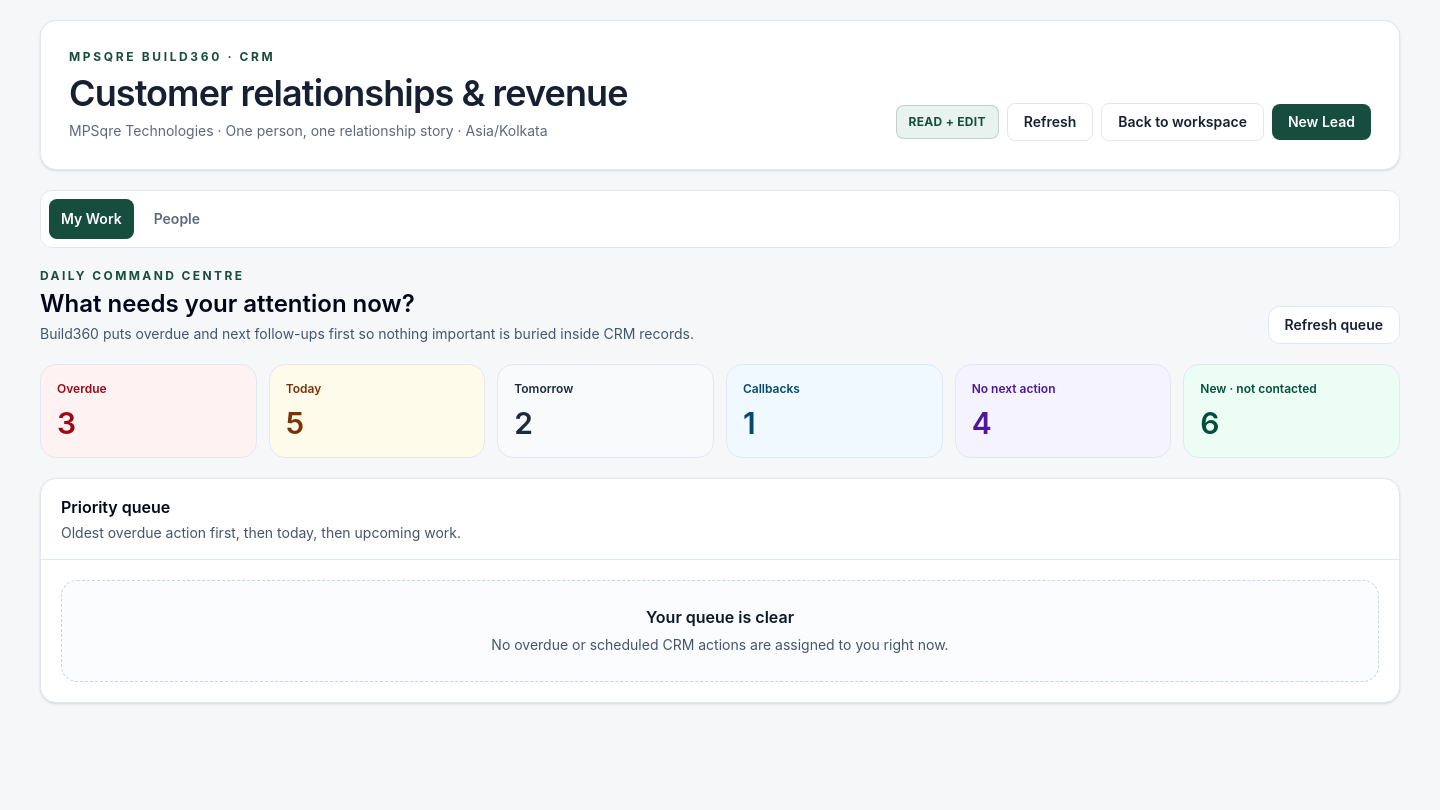
Test: CrmWorkspace relationship-first UX › creates leads through a person-first mobile-safe form with primary and alternate phone
The image size is (1440, 810).
Click the button "New Lead": (1321, 122) top-left (1272, 104), bottom-right (1371, 140)
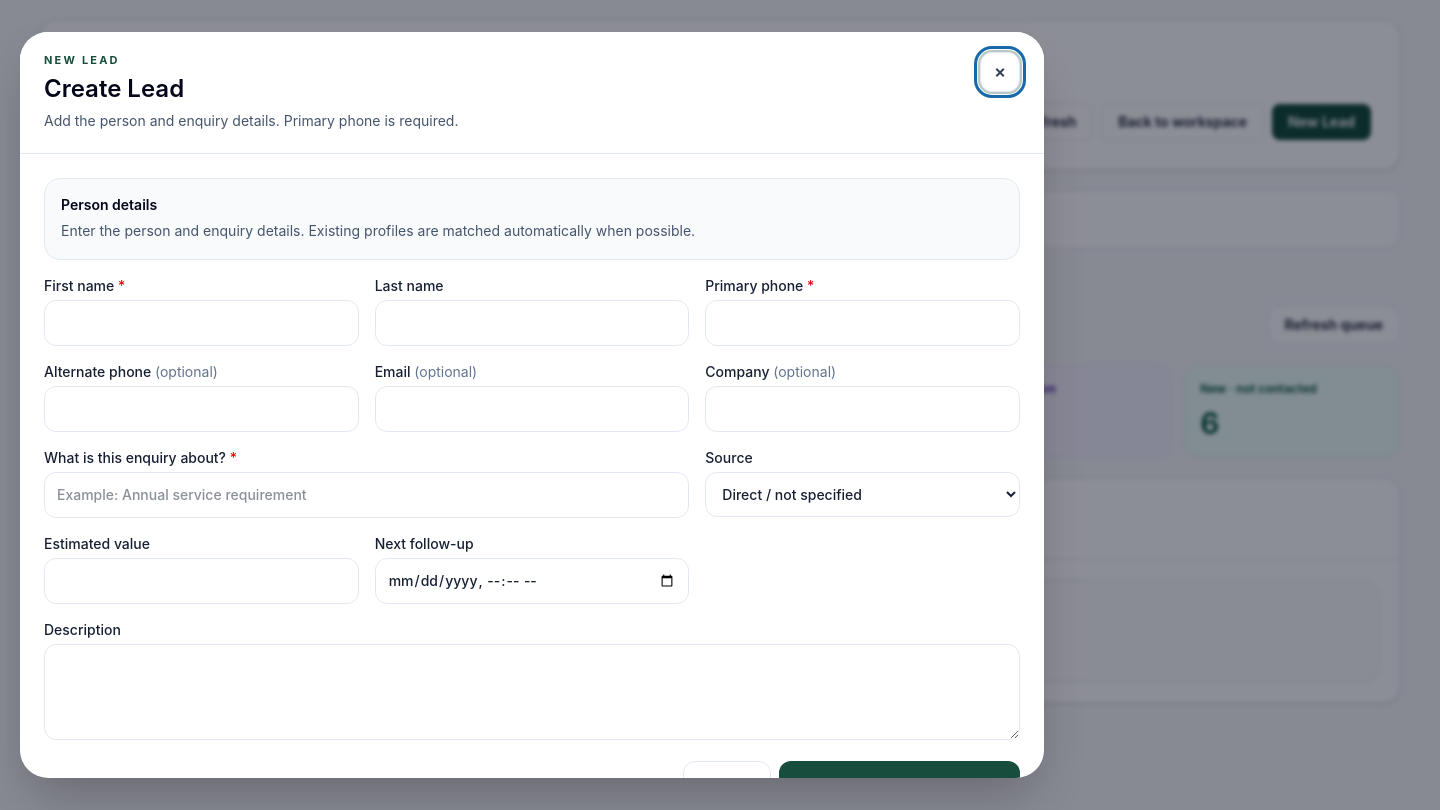
Result: the text "Person details" is shown at top-left (61, 196), bottom-right (157, 213)
